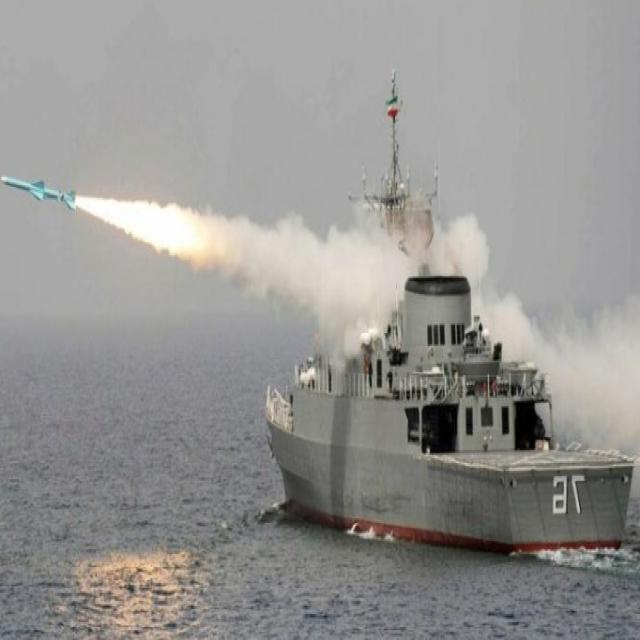navalvessels: (262, 54, 640, 567)
